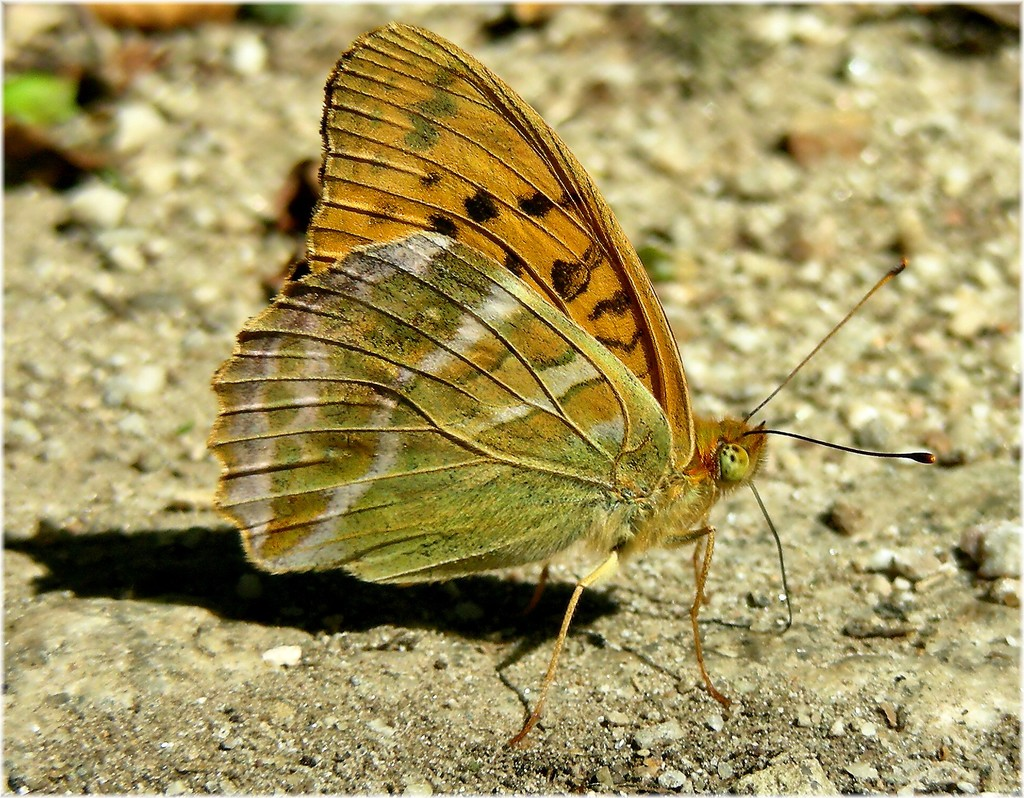Butterfly: (186, 1, 975, 708)
